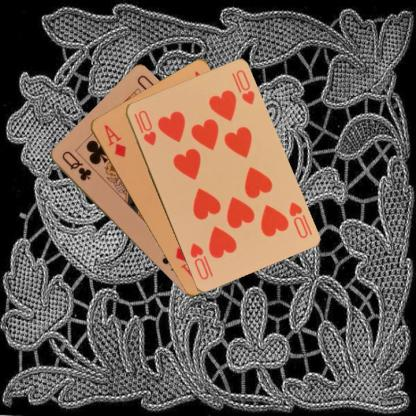10h: (131, 107, 157, 147), (286, 199, 309, 240)
Ad: (101, 122, 127, 159)
Qc: (59, 148, 92, 182)
